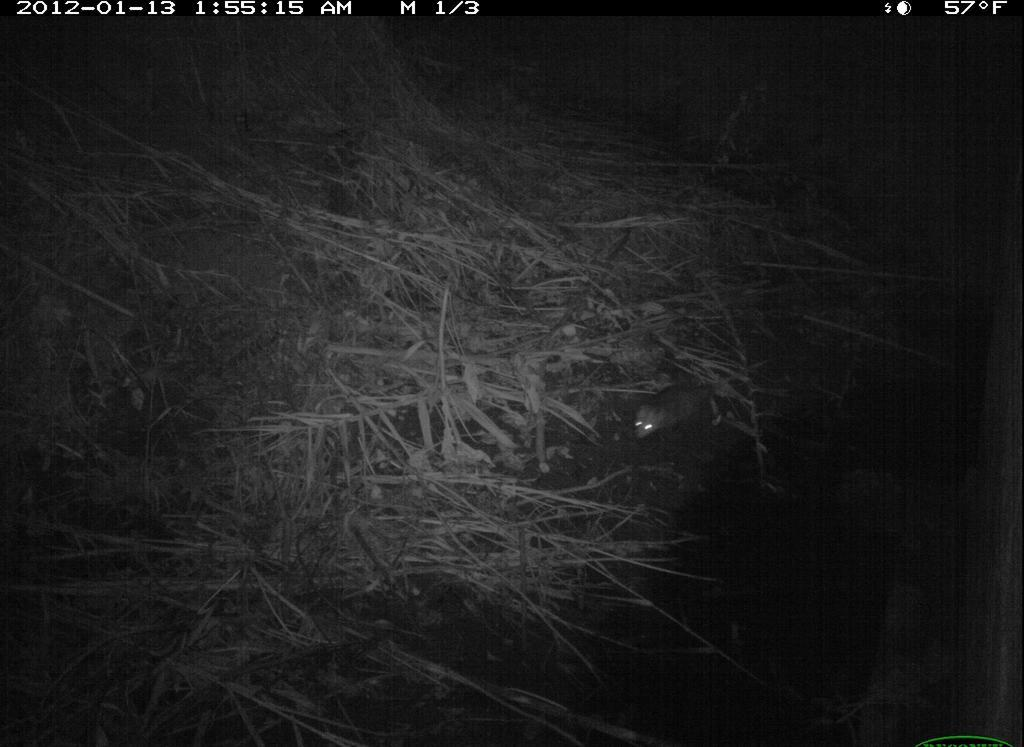opossum: (632, 363, 765, 443)
